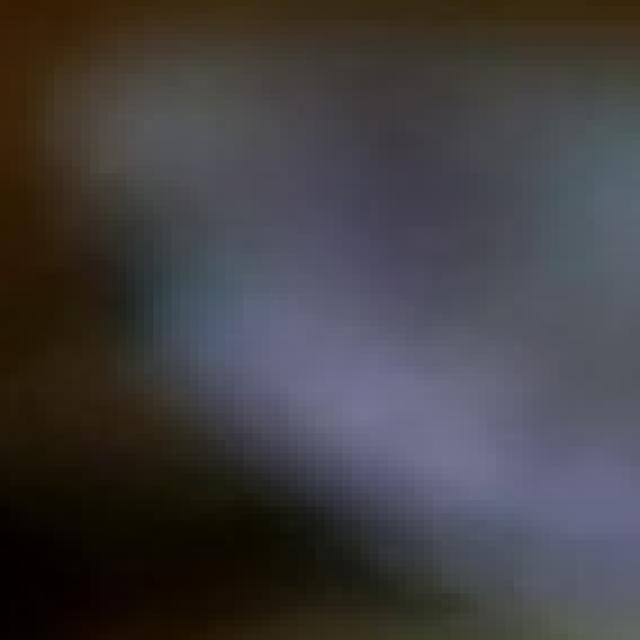fish: (0, 0, 631, 634)
